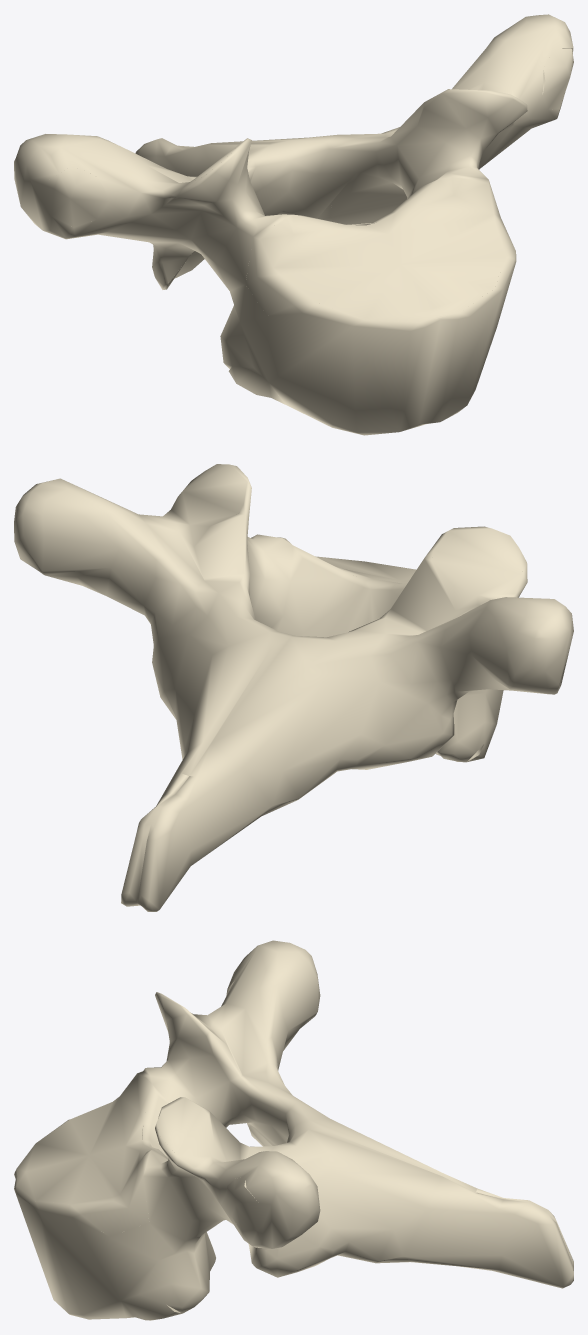
File: esqueleto-vertebra-t2.glb
3 renders of one model, top to bottom at view 1: azimuth 30°, elevation 25°; view 2: azimuth 150°, elevation 25°; view 3: azimuth 270°, elevation 25°, orthographic. The views are drawn at different scales.
Visible parts, largest first — view 1: Vertebra T2; view 2: Vertebra T2; view 3: Vertebra T2.
Boxes of the visible parts, x1=… form: Vertebra T2: x1=14, y1=14, x2=573, y2=435; Vertebra T2: x1=14, y1=464, x2=573, y2=911; Vertebra T2: x1=14, y1=940, x2=573, y2=1320.
Bounding box in the file's own units: 0.0749 × 0.0349 × 0.073.
